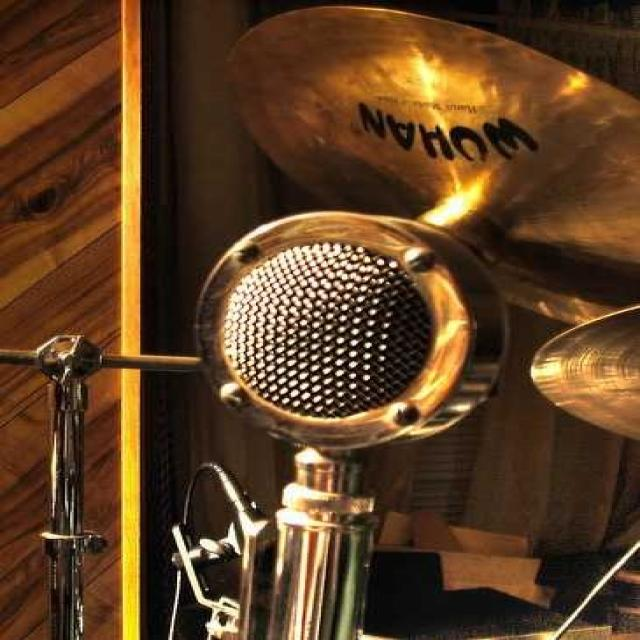microphone: (192, 217, 492, 632)
